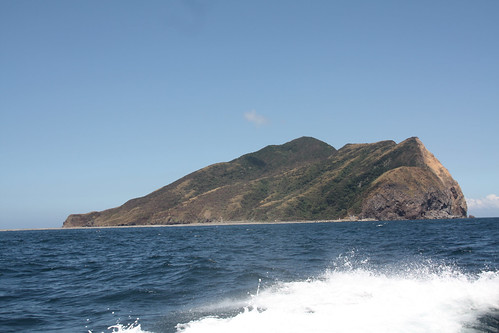turtleIsland: (66, 127, 468, 218)
